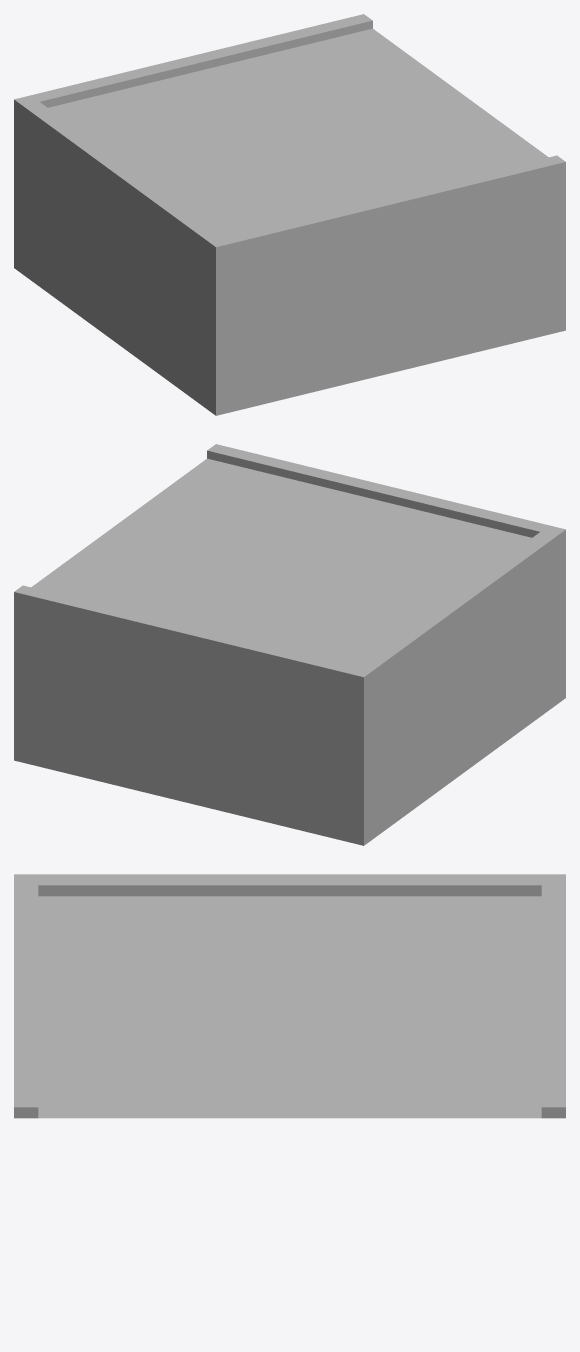
Rendered from endCap_Module.obj.
3 views of the same model, one above another, from view 1: azimuth 30°, elevation 25°; view 2: azimuth 150°, elevation 25°; view 3: azimuth 270°, elevation 25° (orthographic). The views are drawn at different scales.
Parts seen in each view (by area): view 1: polySurface17; view 2: polySurface17; view 3: polySurface17.
Part boxes in pixels (bbox=[...]): polySurface17: bbox=[14, 14, 565, 415]; polySurface17: bbox=[14, 444, 565, 845]; polySurface17: bbox=[14, 874, 565, 1118].
Bounding box in the file's own units: 197 × 90.53 × 197.
1 material, 1 textured.
